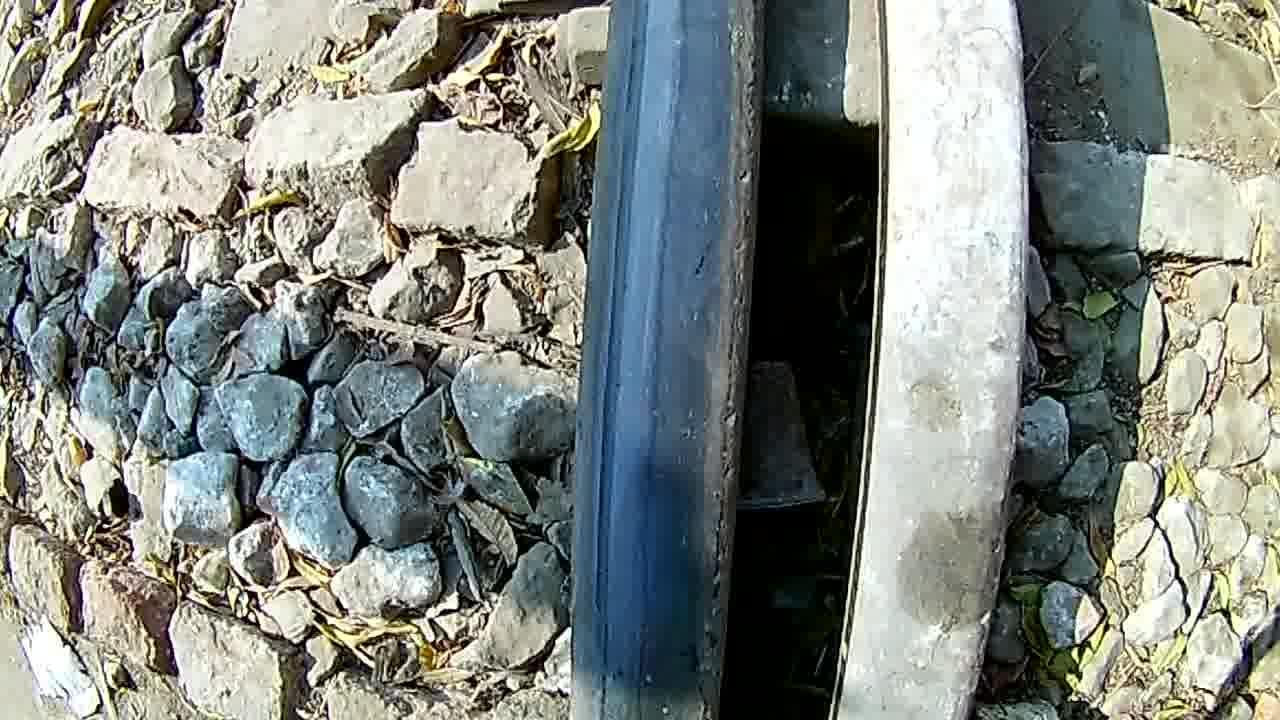crack: (569, 2, 769, 720)
